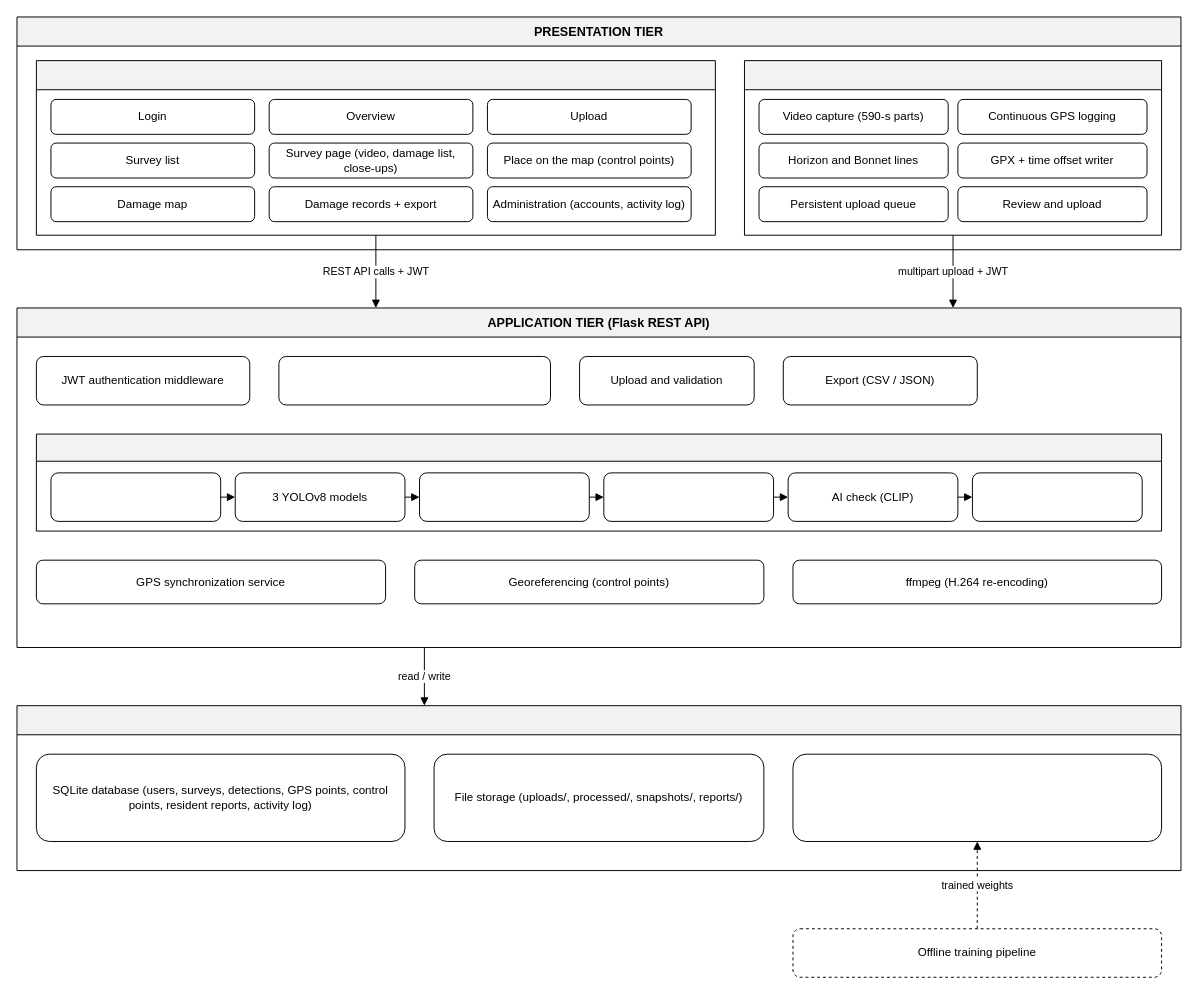
Image size: 1198x994. Some labels were removed from this diagram. The shapes that lost their labels are listed below. From the top down, each one's box as (x1, y1, x2, y2) in pixels, then its label:
(35, 60, 715, 235): Web client (React + Vite)
(744, 60, 1162, 235): Mobile capture app (iPhone)
(278, 356, 550, 405): API routes: auth, surveys, detections, records, map, reports, accounts, activity
(50, 472, 221, 521): Sampler + near-zone crop
(419, 472, 589, 521): Weighted box fusion (≥ 0.25)
(35, 433, 1162, 531): Video processing worker (background thread)
(603, 472, 774, 521): Tracking + fixed-spot filter
(971, 472, 1142, 521): Positioning + annotation
(16, 705, 1181, 871): DATA TIER
(792, 753, 1162, 841): Models: 3 YOLOv8 weight files + model_config.json + CLIP model
